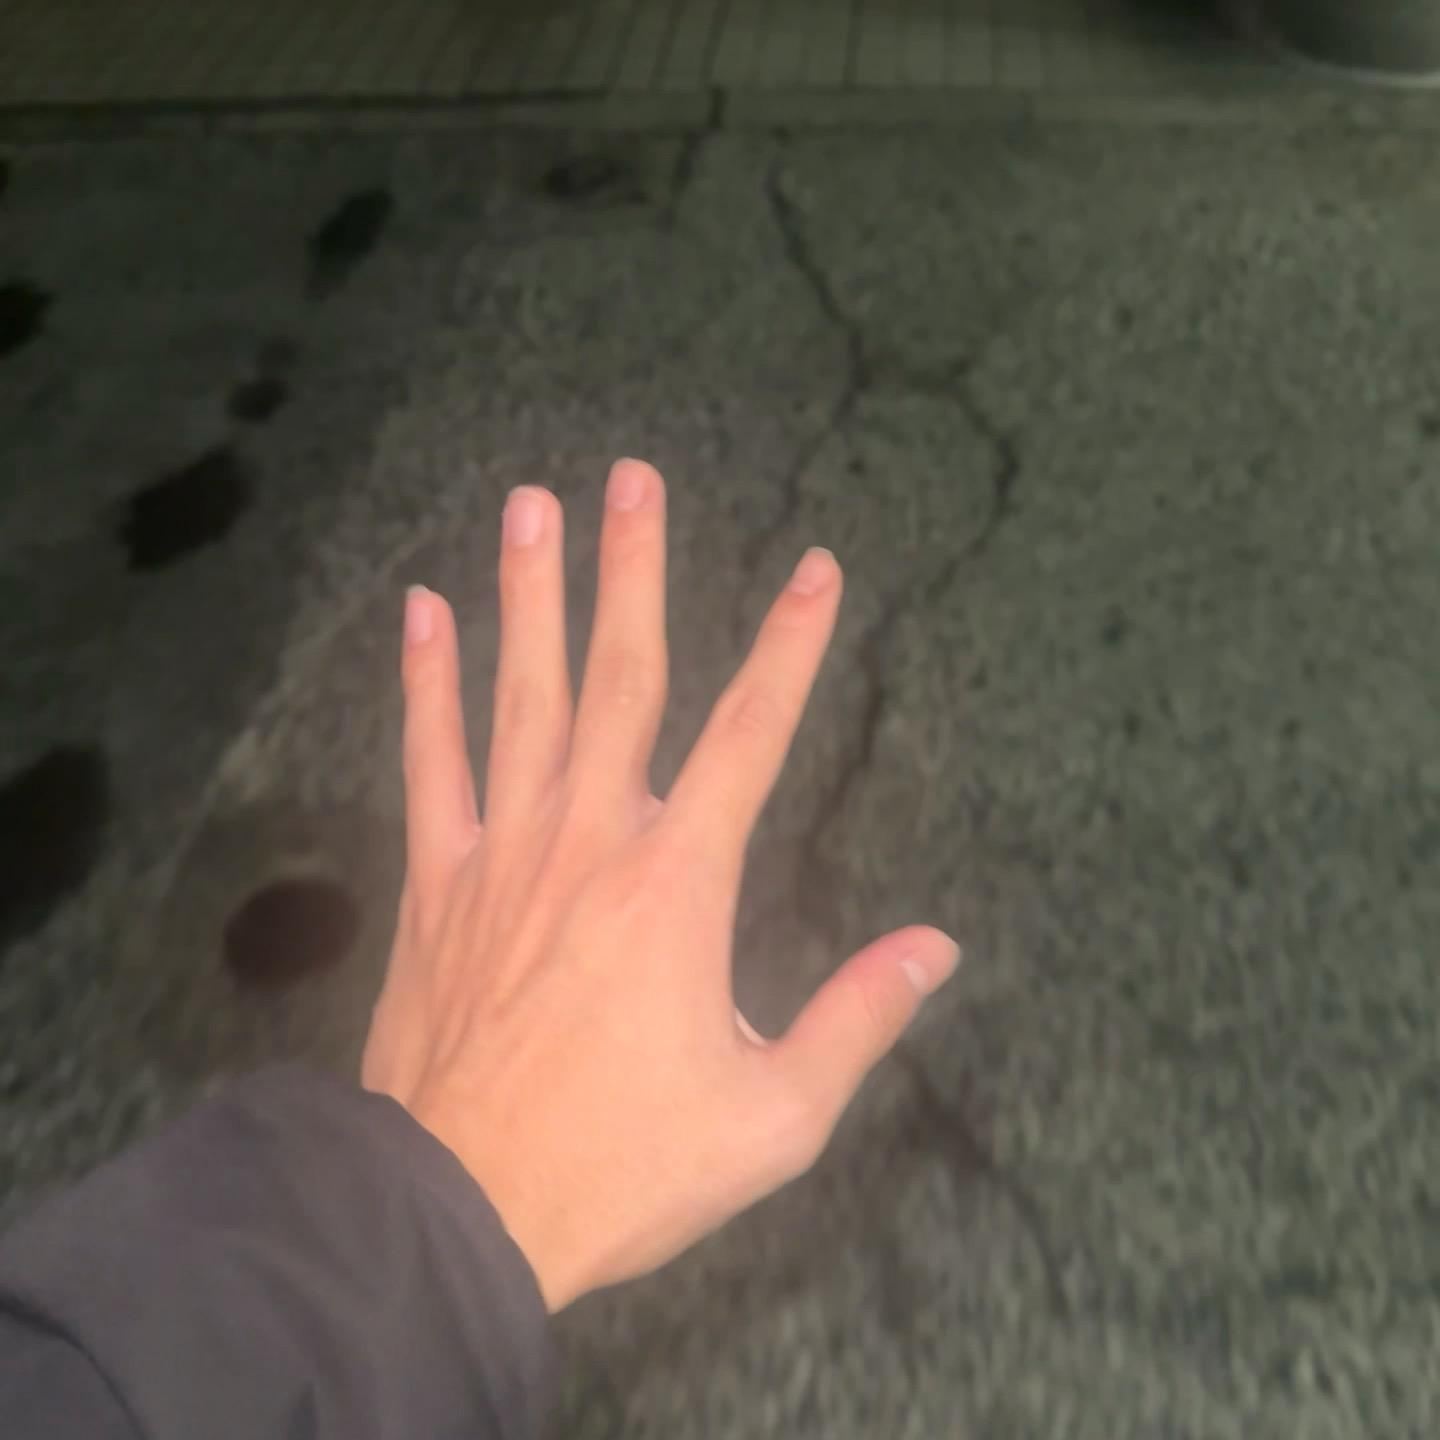without_gloves: (294, 270, 1022, 1290)
